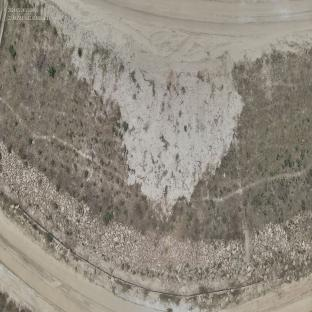rock_toe: (0, 150, 312, 277)
